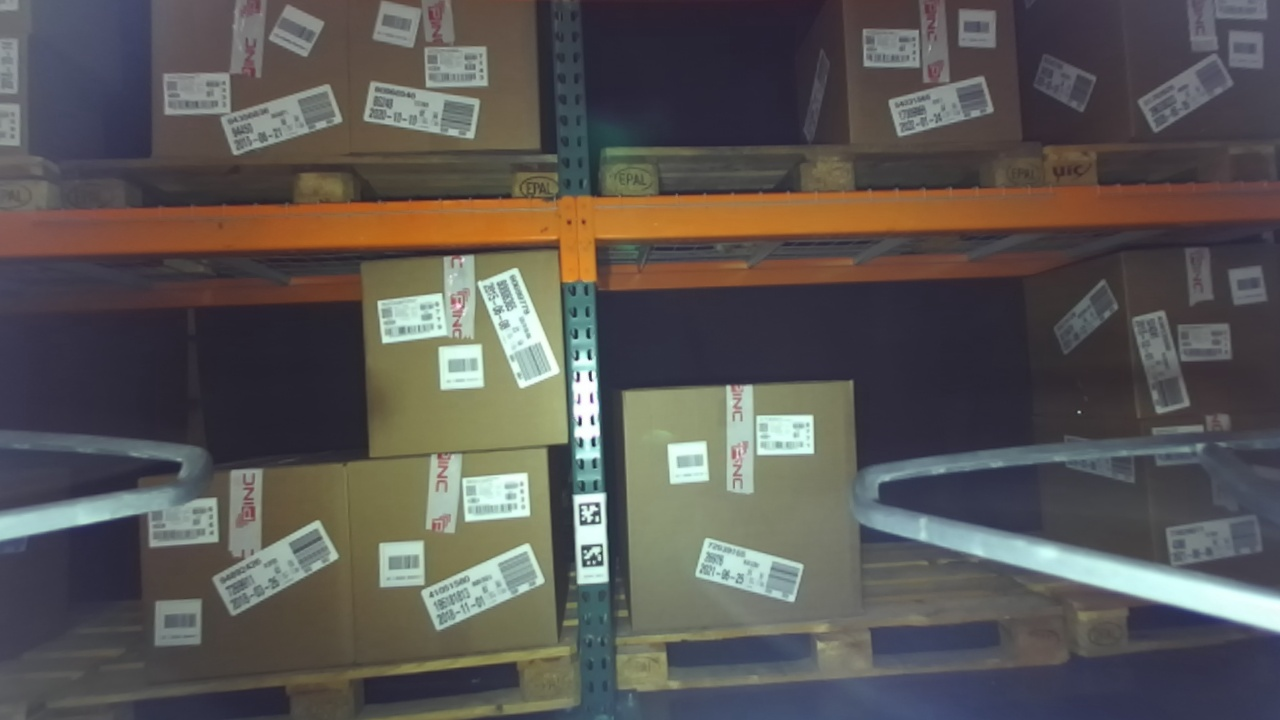box: (588, 367, 882, 637), (304, 417, 579, 680), (115, 451, 374, 695), (332, 236, 592, 471), (1096, 226, 1280, 471), (127, 2, 363, 182), (327, 5, 575, 176), (832, 1, 1040, 167), (1099, 1, 1277, 164)
